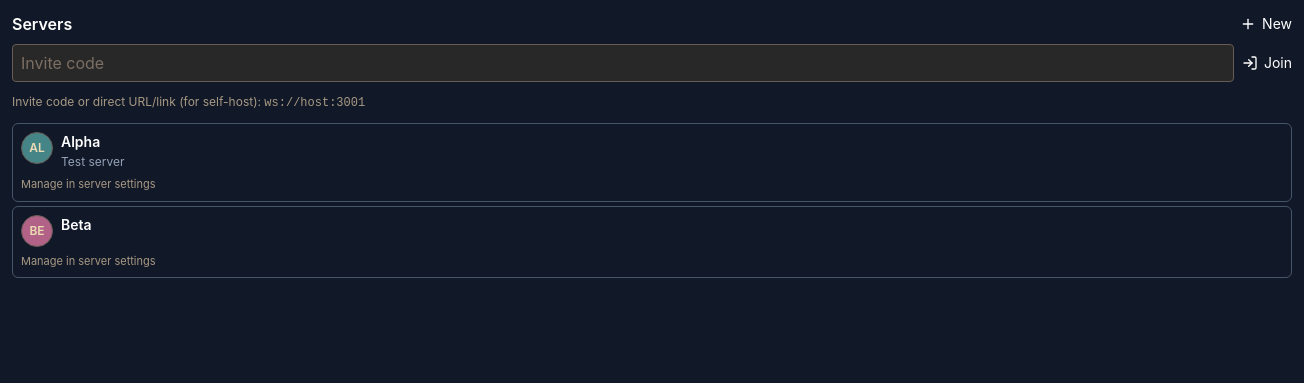
Test: ServerList › removes a direct pseudo-server locally
This screenshot has width=1304, height=383.
Type "ws://localhost:3301" into the field with placeholder "Invite code" at (623,63), box top-left (12, 44), bottom-right (1234, 82)
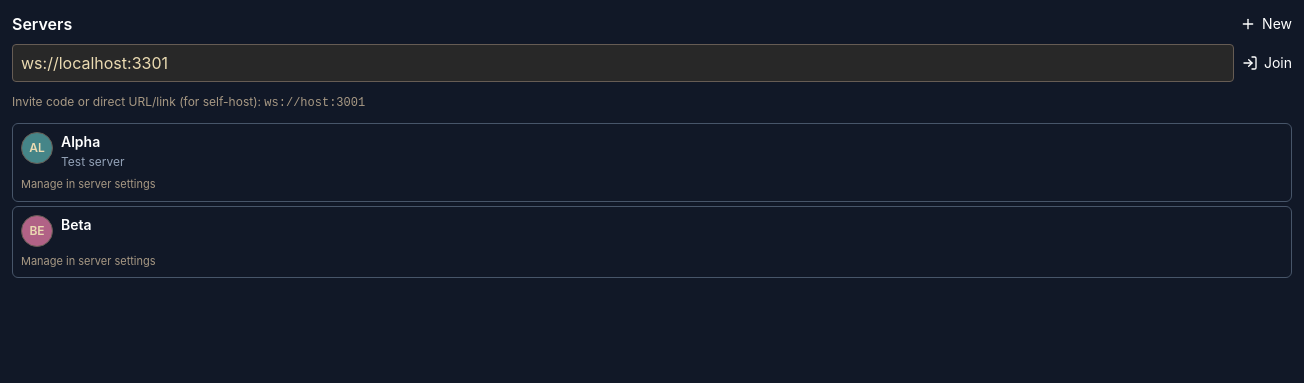
Click the button "Join" at (1267,63), box top-left (1242, 44), bottom-right (1292, 82)
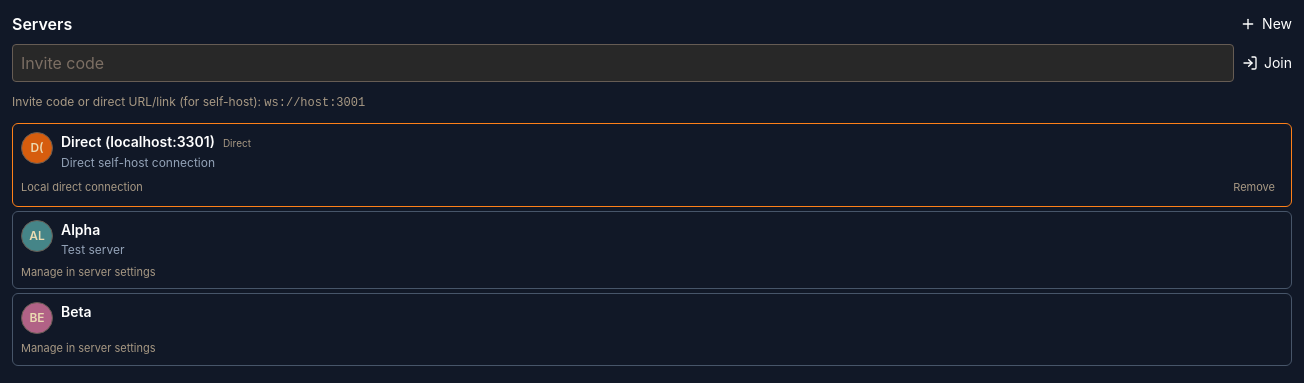
Click the button "Remove" at (1254,187), box top-left (1225, 177), bottom-right (1283, 198)
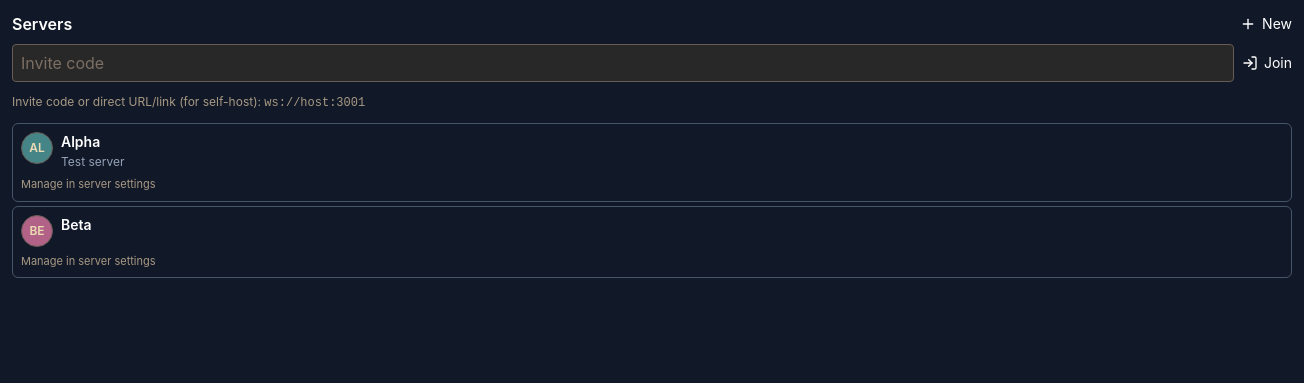
Now the heading "Direct (localhost:3301)" is gone
